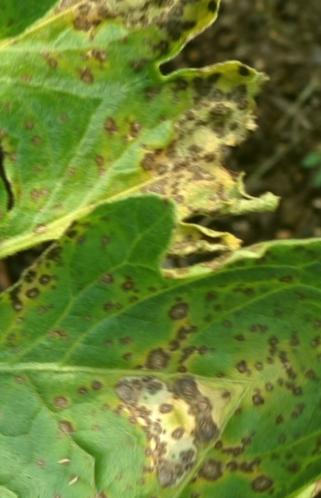Tomato Septoria leaf spot: (0, 0, 321, 498), (0, 24, 321, 387)
